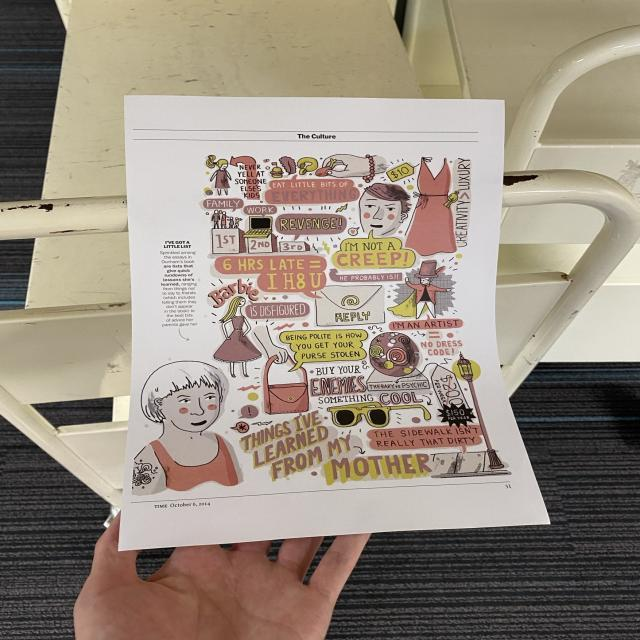document: (120, 96, 549, 549)
